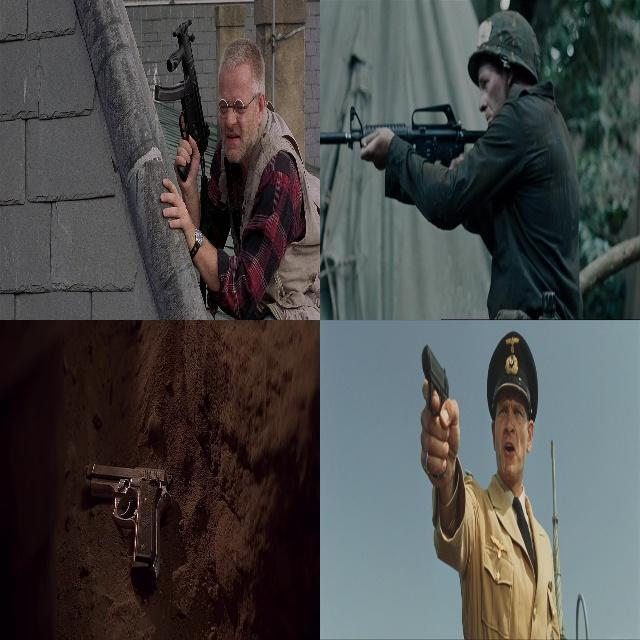gun-knife-thesis - v11 Yolov5 augmented: (319, 105, 513, 204), (83, 451, 171, 592), (151, 11, 209, 182), (419, 338, 452, 479)
